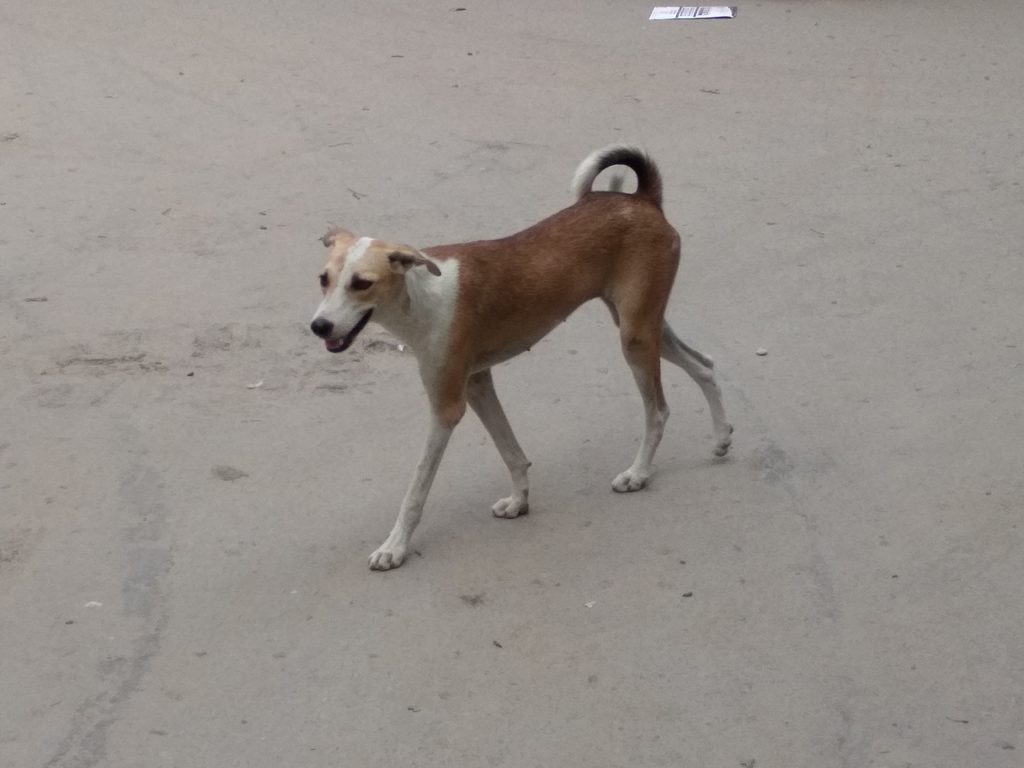dog: (312, 142, 739, 568)
